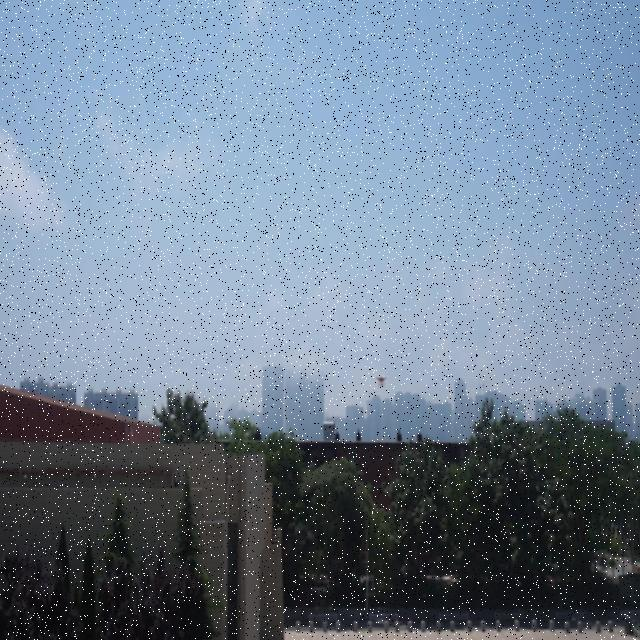UAV: (374, 375, 389, 388)
